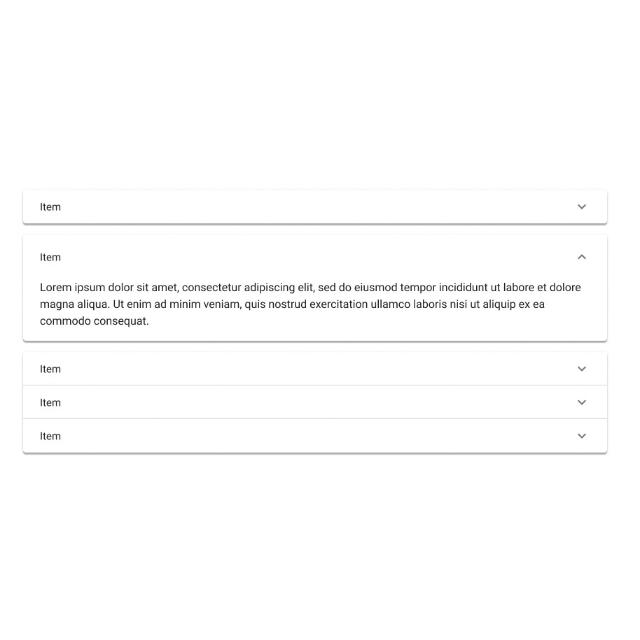QLabel: (38, 280, 582, 326), (39, 397, 61, 407), (39, 431, 61, 441), (40, 201, 60, 211), (39, 363, 61, 372), (39, 252, 61, 260)
VExpansionPanel: (22, 233, 608, 343), (22, 188, 608, 225), (24, 353, 606, 385), (24, 420, 606, 452), (24, 387, 606, 418)
